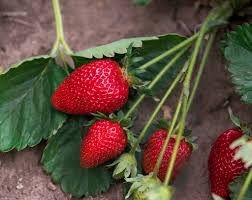ripe: (48, 62, 131, 117), (201, 129, 248, 200), (78, 112, 127, 176), (138, 129, 189, 179)
unripe: (128, 172, 175, 200)
